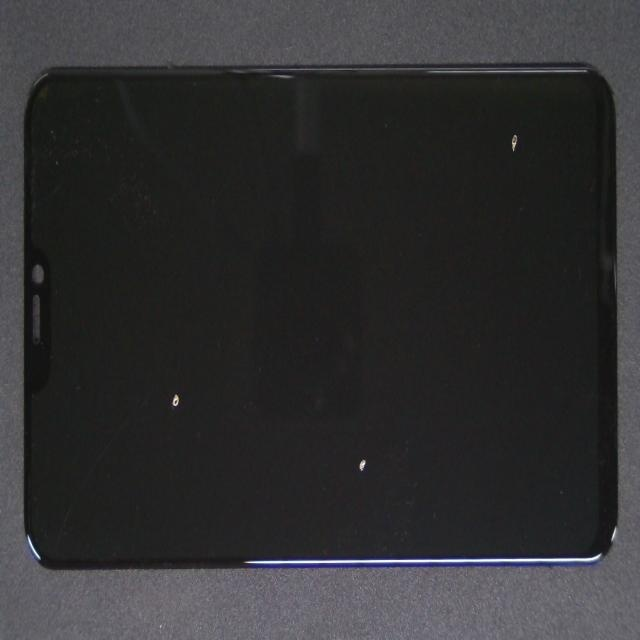stain: (196, 192, 533, 640), (98, 170, 247, 581), (281, 36, 640, 178)
